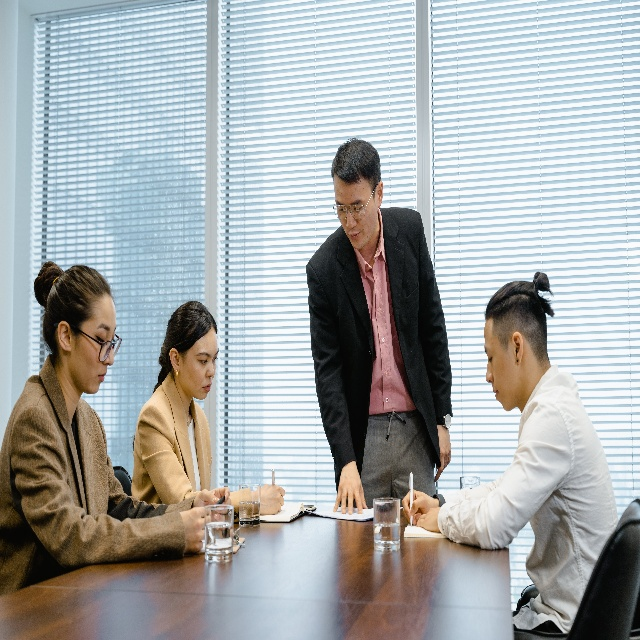Gafas: (52, 320, 121, 362), (332, 181, 379, 221)
Sin_guantes: (192, 483, 233, 532), (333, 465, 369, 516), (178, 504, 213, 553), (400, 486, 433, 526), (434, 422, 452, 481), (259, 482, 286, 517), (416, 505, 443, 532)
